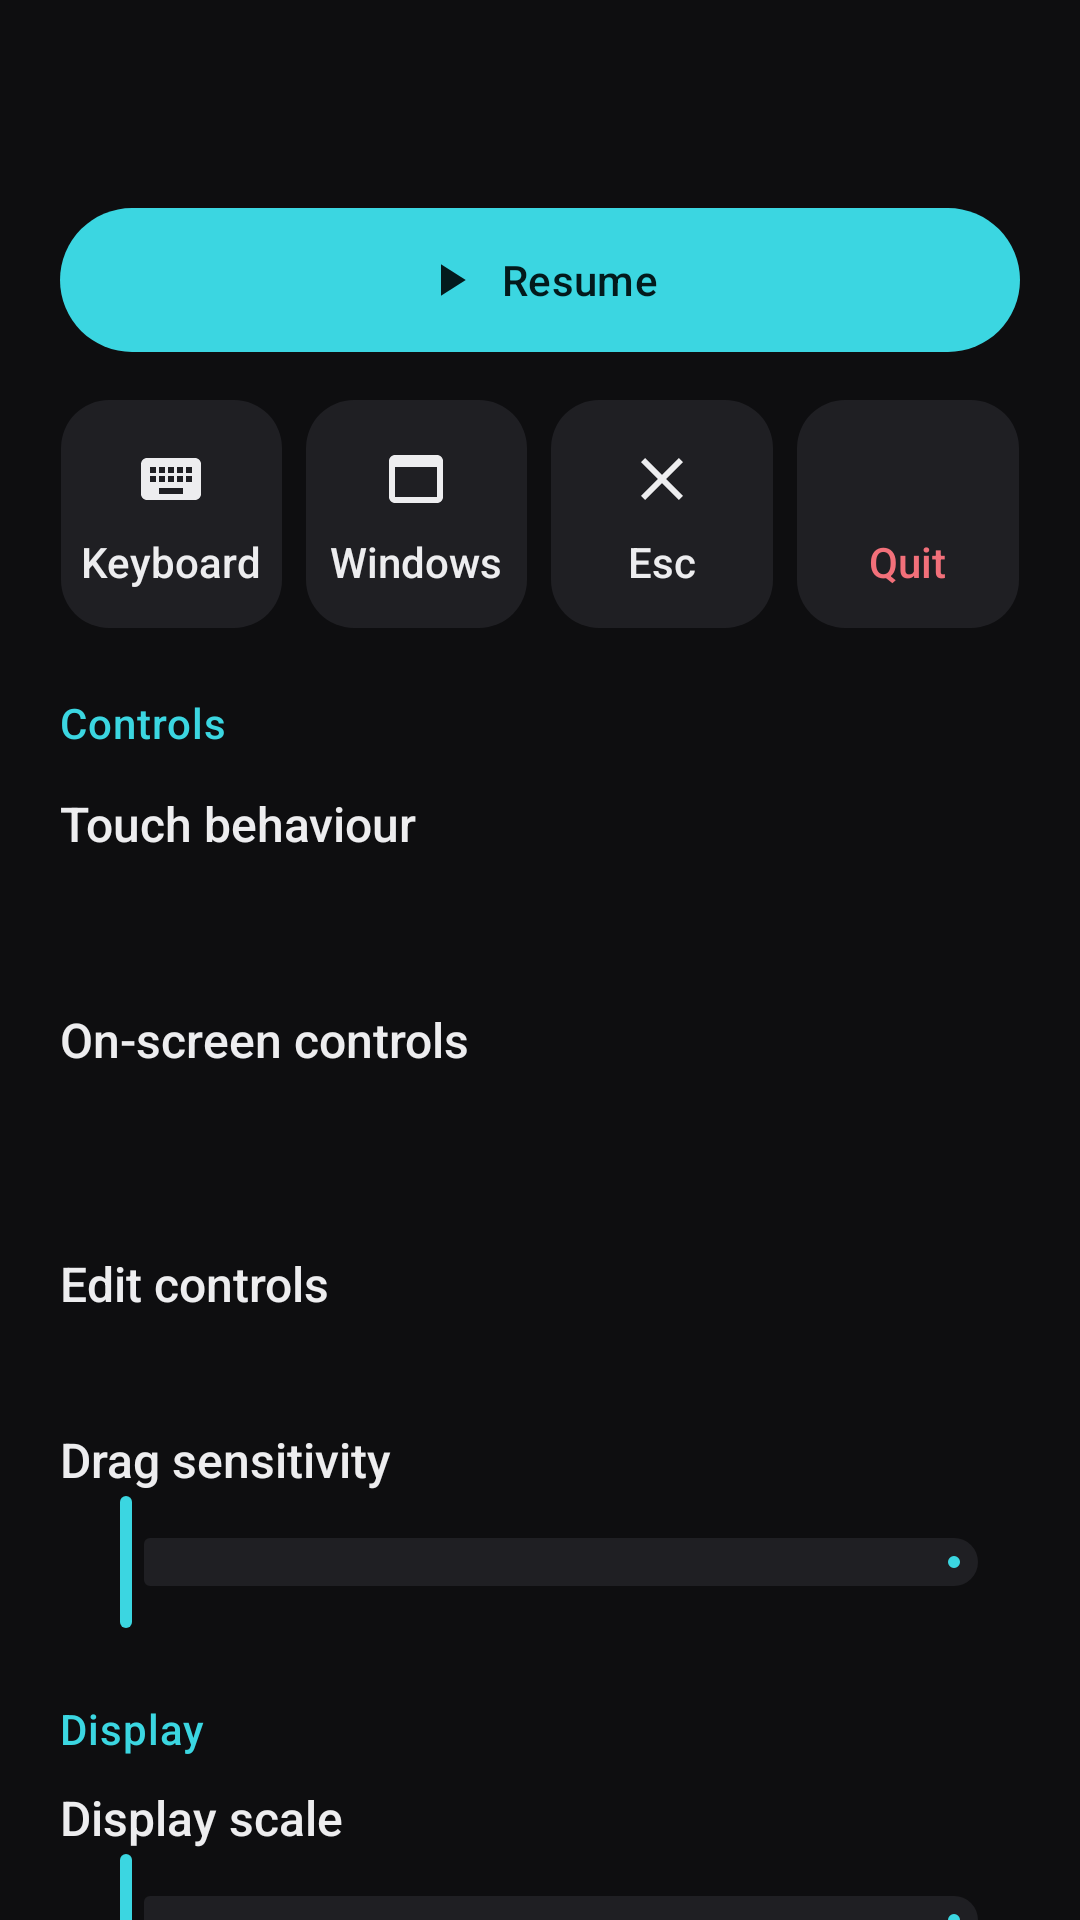

Icons on this 1080w x 1920h Android screen, each with the point to tap as point (x, y):
close: point (662, 479)
